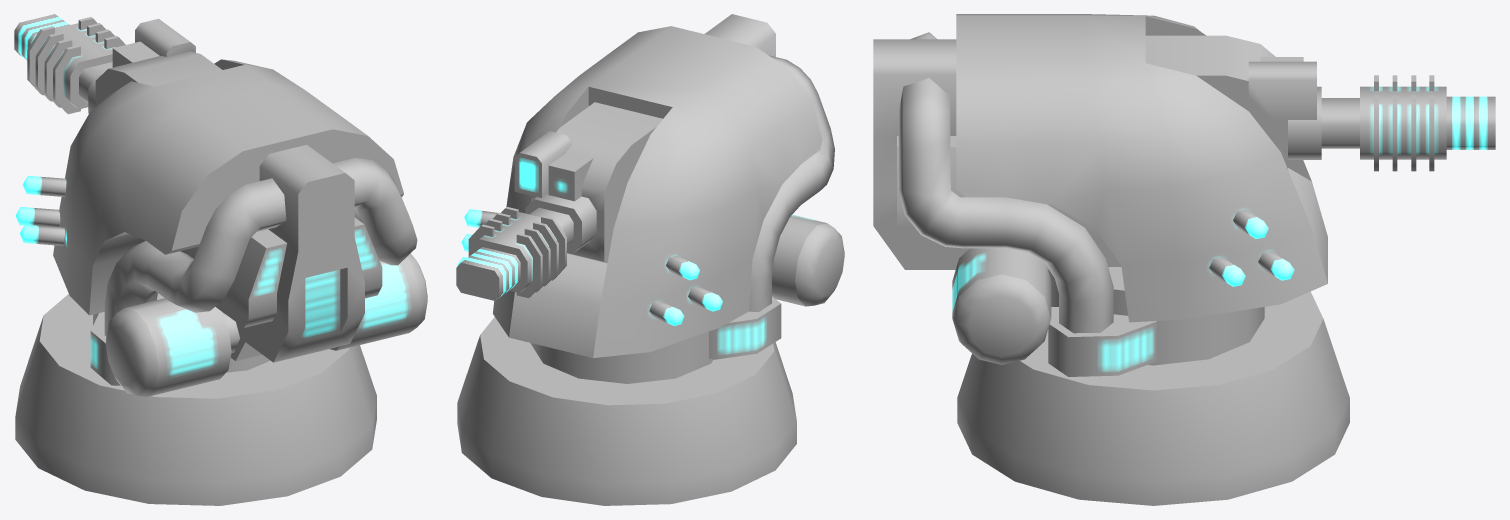
3 views of the same model, side by side, from view 1: azimuth 30°, elevation 25°; view 2: azimuth 150°, elevation 25°; view 3: azimuth 270°, elevation 25° (orthographic). The views are drawn at different scales.
Parts seen in each view (by area): view 1: imported_Meshes; view 2: imported_Meshes; view 3: imported_Meshes.
Part boxes in pixels (<box>): imported_Meshes: <box>14,14,427,505</box>; imported_Meshes: <box>456,14,844,505</box>; imported_Meshes: <box>873,14,1495,505</box>.
Bounding box in the file's own units: 0.3907 × 0.4211 × 0.6197.
